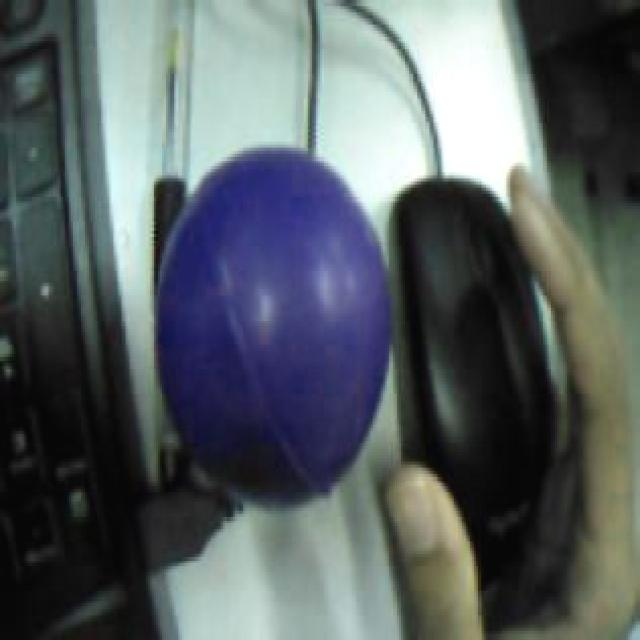BallPurple: (157, 143, 390, 509)
